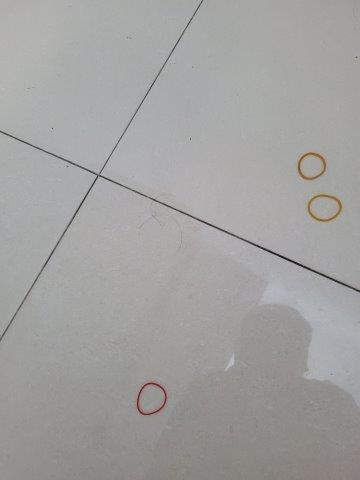karet: (135, 383, 169, 417), (305, 194, 343, 223), (297, 153, 327, 180)
